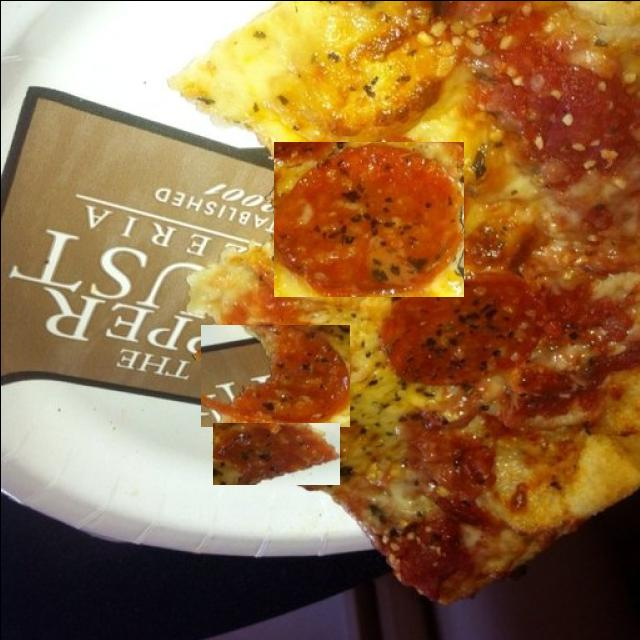pepperoni: (273, 141, 463, 296), (382, 280, 540, 383), (200, 324, 349, 426), (212, 422, 339, 484)
pizza: (168, 0, 640, 606)
